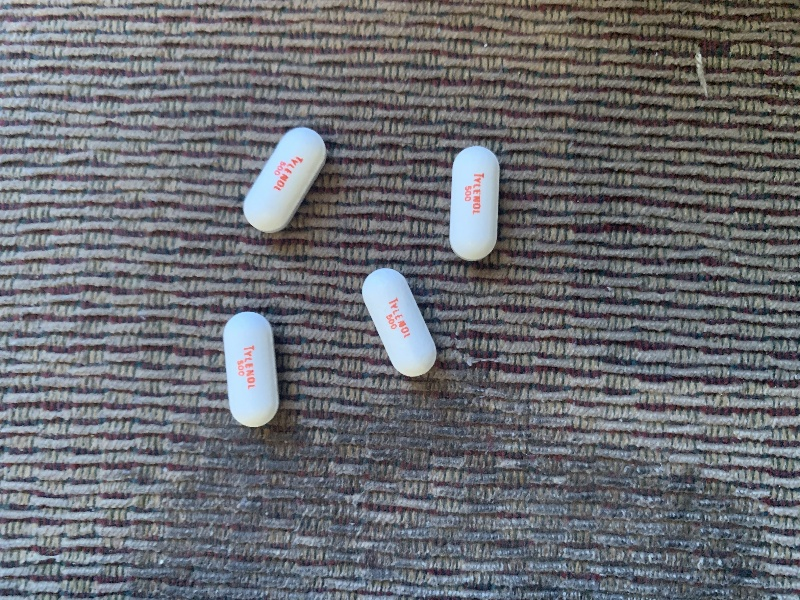Tylenol: (227, 122, 341, 237), (358, 264, 443, 381), (217, 308, 287, 436), (448, 141, 505, 266)
